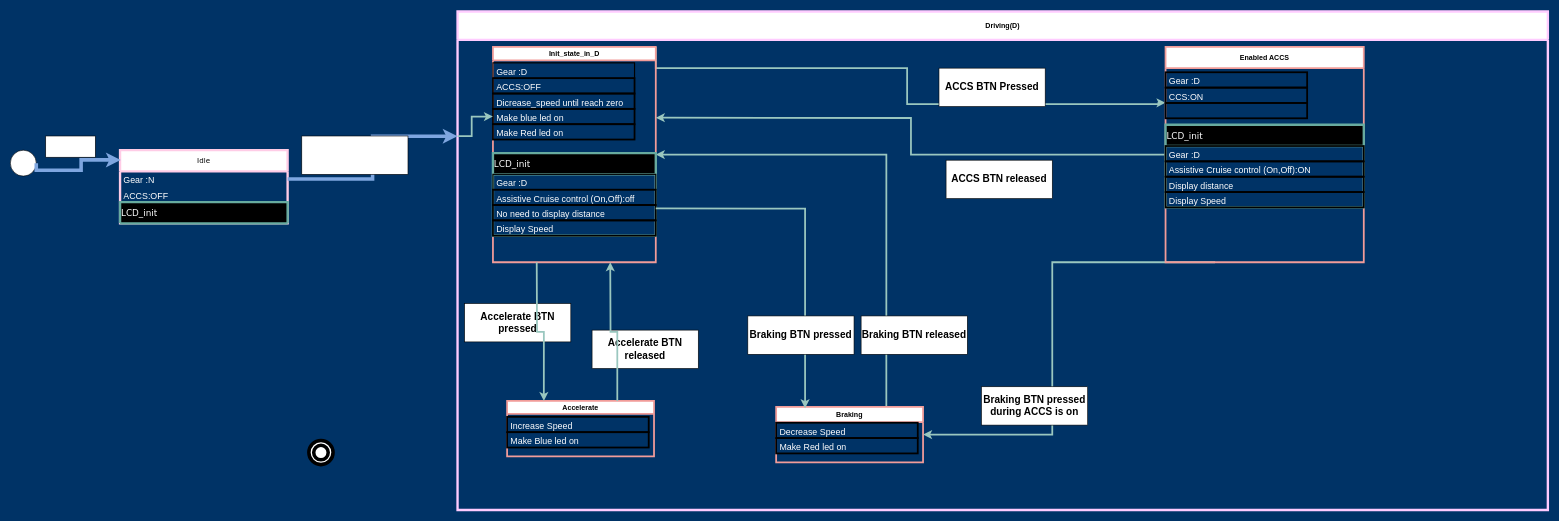
This 1559x521 diagram has some shape labels left out. The shapes that lost their labels are listed below. From the top down, each one's centre as x and y in pixels, then its label:
the point at 1236,110: keep last speed when pressed
the point at 70,146: Power on
the point at 354,154: Gearbox BTN pressed
